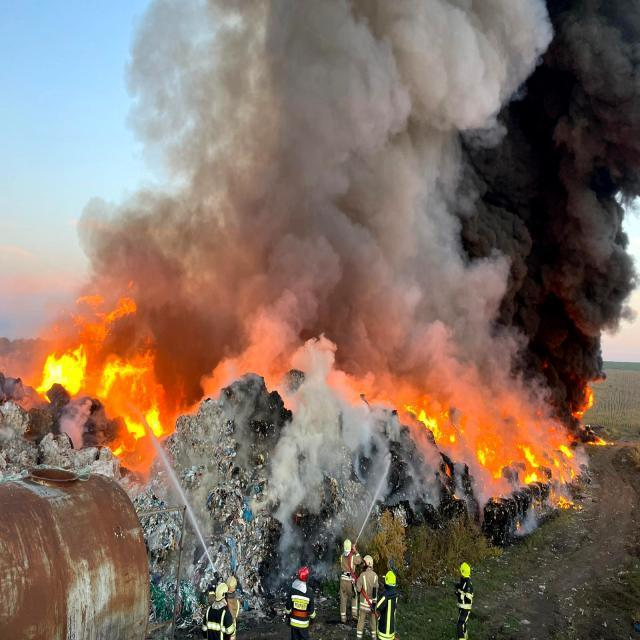Fire: (388, 361, 590, 500), (27, 286, 168, 462)
Smoke: (43, 6, 640, 404)
